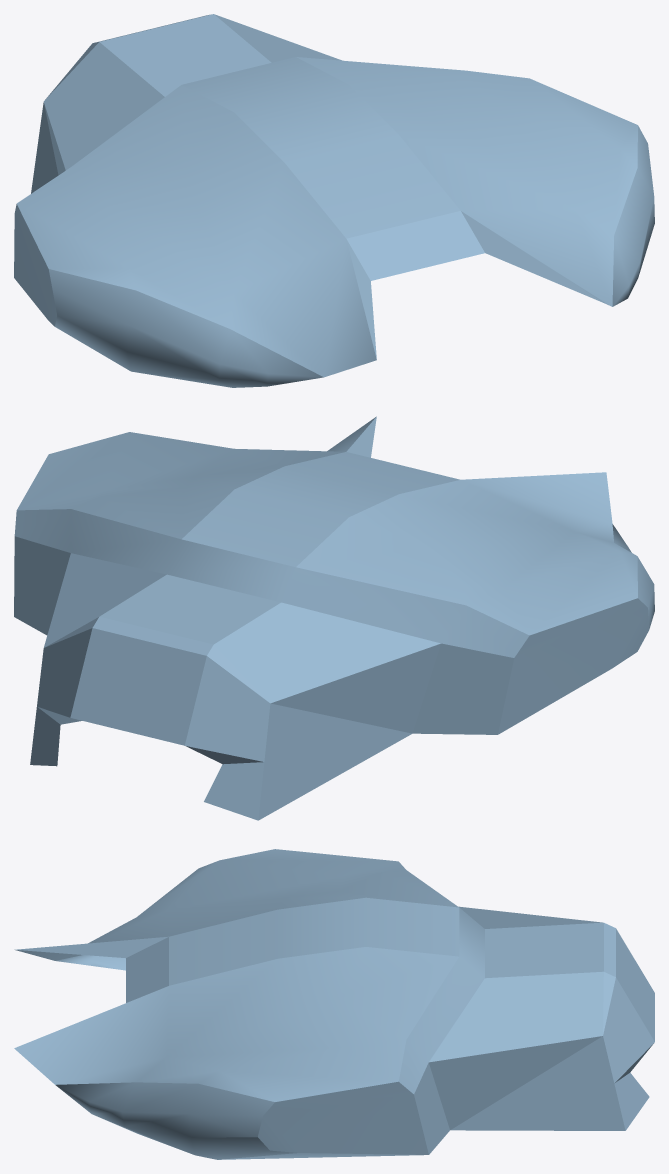
Rendered from up body.FBX.
The picture shows the model from 3 angles, top to bottom: view 1: azimuth 30°, elevation 25°; view 2: azimuth 150°, elevation 25°; view 3: azimuth 270°, elevation 25°; orthographic projection. The views are drawn at different scales.
Visible parts, largest first — view 1: Box10; view 2: Box10; view 3: Box10.
Boxes of the visible parts, bbox=[...] form: Box10: bbox=[14, 14, 654, 387]; Box10: bbox=[14, 416, 654, 820]; Box10: bbox=[14, 849, 654, 1159].
Size of the model in its own units: 0.1471 by 0.1558 by 0.0428.
